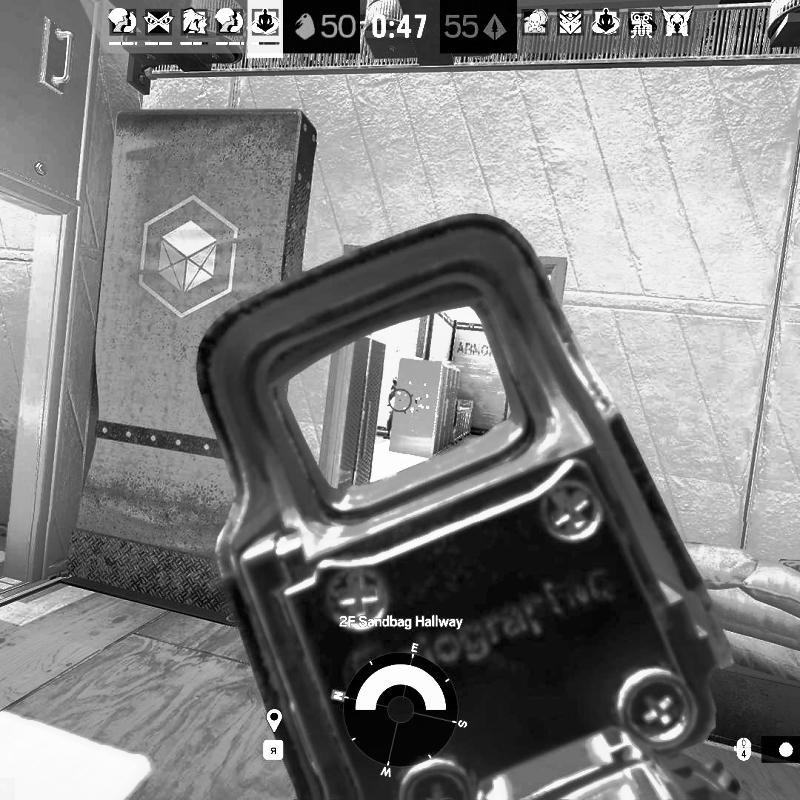Character: (384, 374, 400, 439)
Head: (391, 375, 398, 386)
